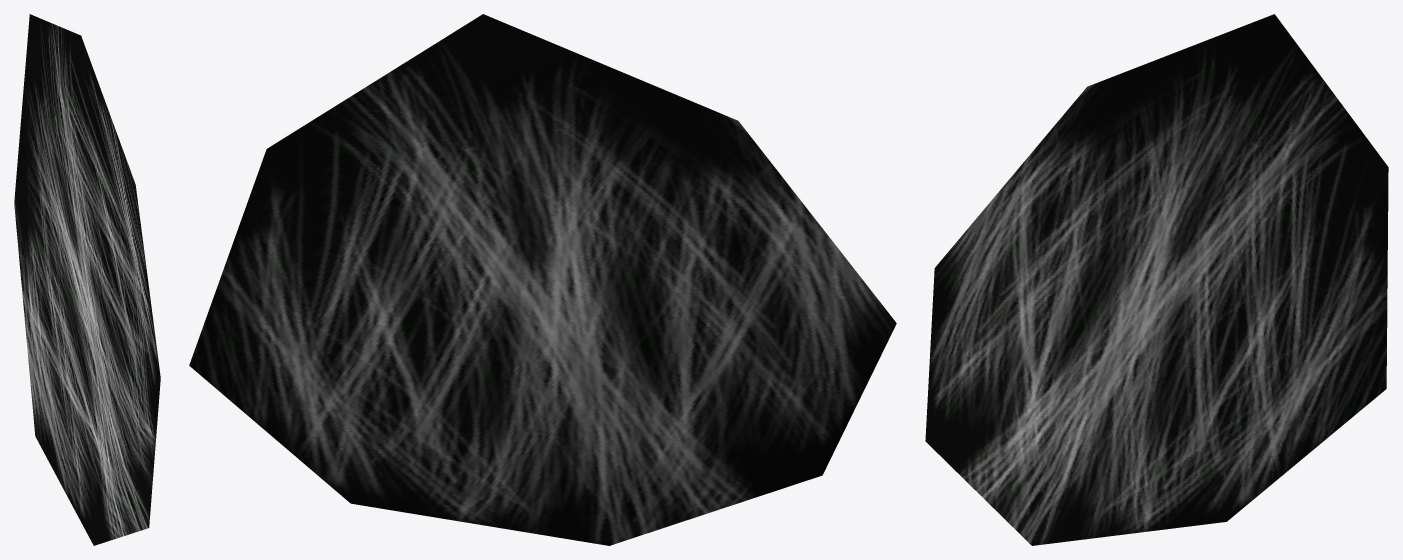
File: MIRKWOOD_SPIDERWEB_COVERS17.fbx
3 views of the same model, side by side, from view 1: azimuth 30°, elevation 25°; view 2: azimuth 150°, elevation 25°; view 3: azimuth 270°, elevation 25° (orthographic). The views are drawn at different scales.
Visible parts, largest first — view 1: MIRKWOOD_SPIDERWEB_COVERS17; view 2: MIRKWOOD_SPIDERWEB_COVERS17; view 3: MIRKWOOD_SPIDERWEB_COVERS17.
Part boxes in pixels (x1,y1,x2,y2): MIRKWOOD_SPIDERWEB_COVERS17: (14,14,160,545); MIRKWOOD_SPIDERWEB_COVERS17: (189,14,896,545); MIRKWOOD_SPIDERWEB_COVERS17: (925,14,1388,545).
Bounding box in the file's own units: 14416 × 20890 × 16782.
1 material, 1 textured.
